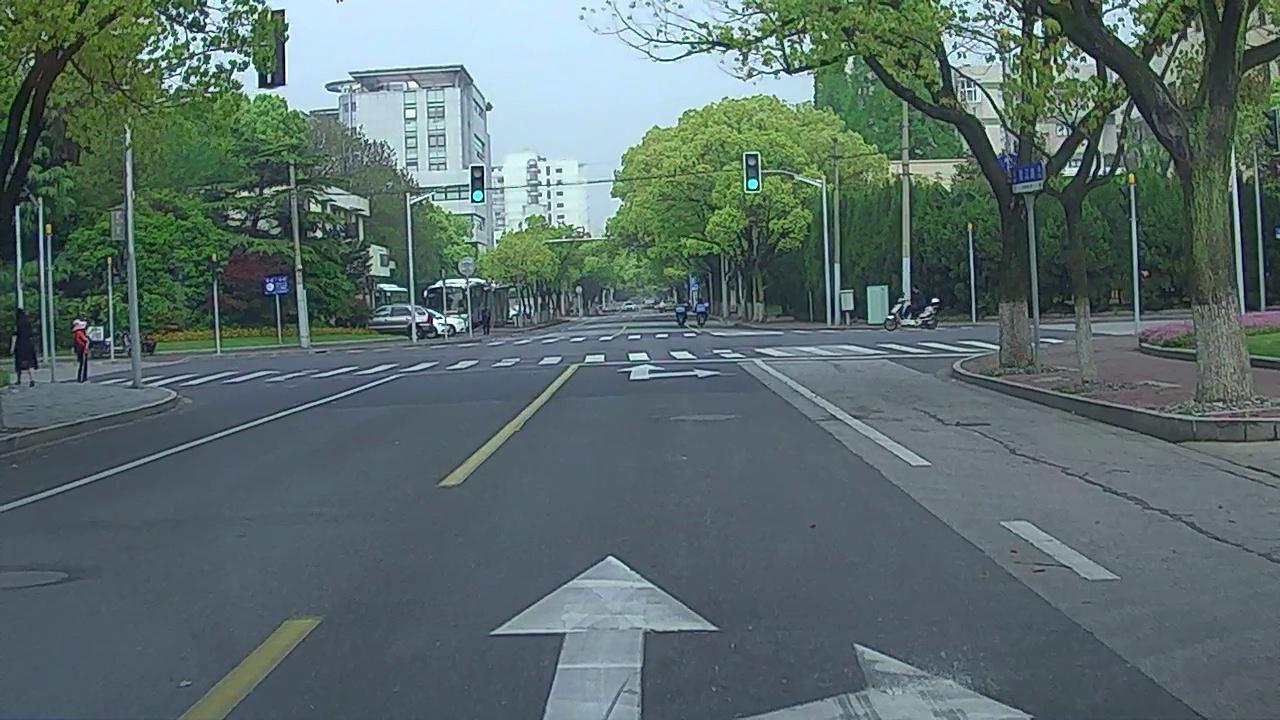traffic_light: (743, 152, 761, 191), (471, 164, 486, 206)
